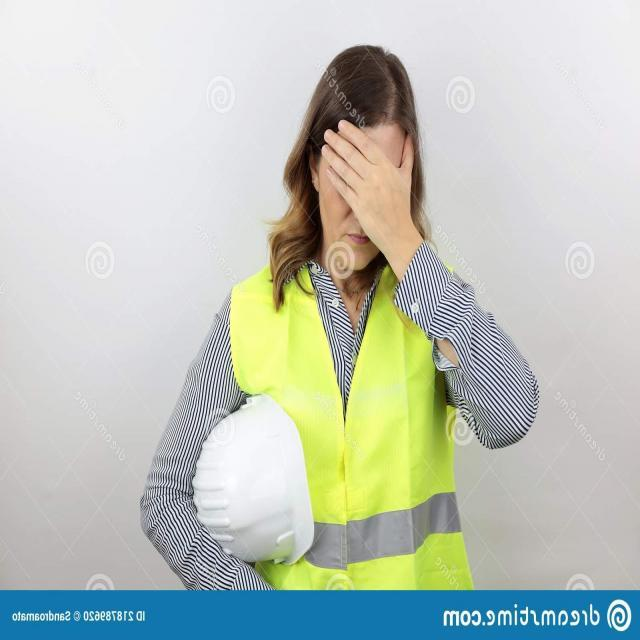reflective_jacket: (230, 259, 472, 585)
safety_helmet: (177, 380, 335, 575)
